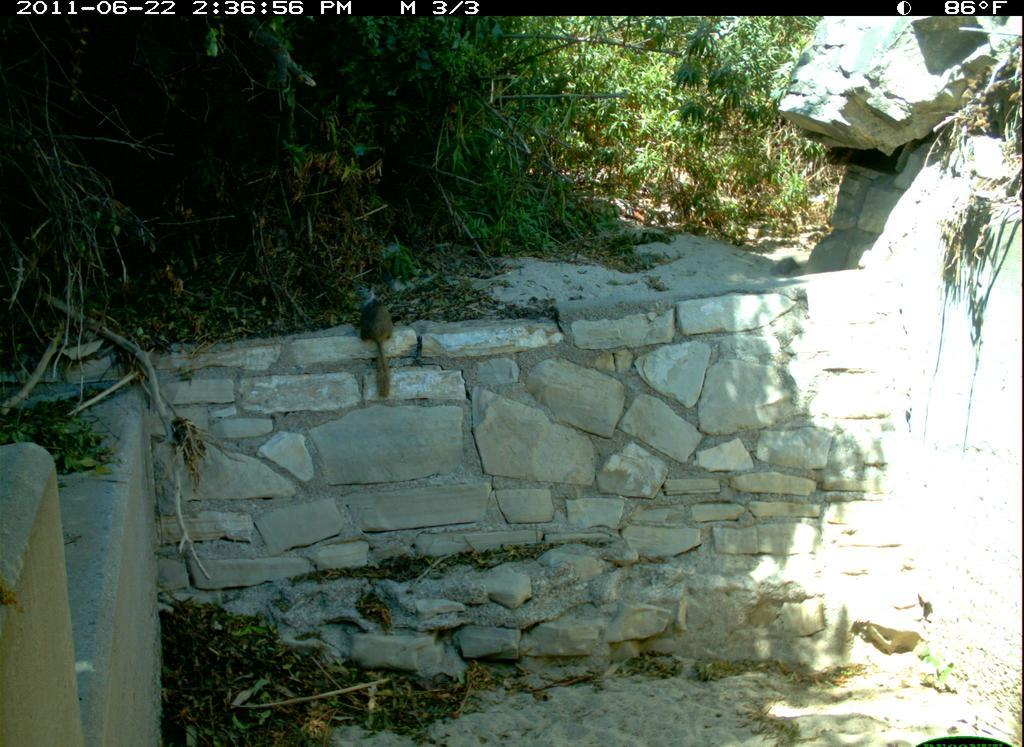squirrel: (347, 280, 406, 405)
